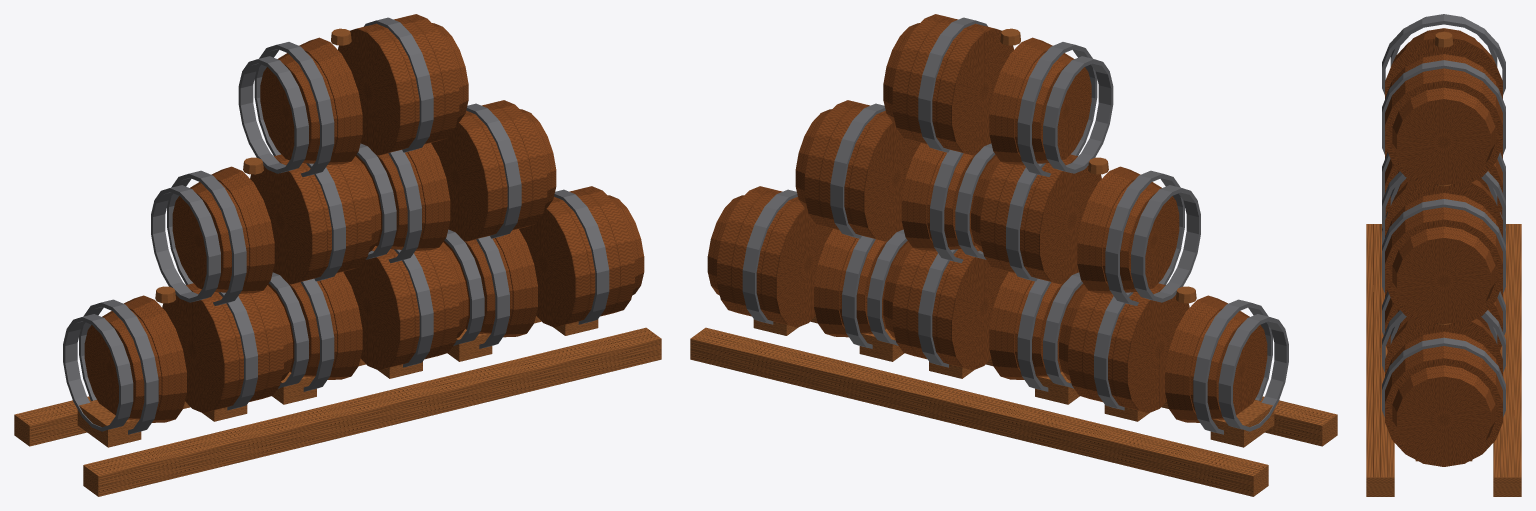
Rendered from barrel-stack.glb.
3 renders of one model, left to right at view 1: azimuth 30°, elevation 25°; view 2: azimuth 150°, elevation 25°; view 3: azimuth 270°, elevation 25°, orthographic. The views are drawn at different scales.
Visible parts, largest first — view 1: barrel-stack-oak, barrel-stack-dark, barrel-stack-timber; view 2: barrel-stack-oak, barrel-stack-dark, barrel-stack-timber; view 3: barrel-stack-oak, barrel-stack-timber, barrel-stack-dark.
Part boxes in pixels (x1,y1,x2,y2): barrel-stack-oak: (84, 14, 644, 422); barrel-stack-dark: (63, 17, 609, 434); barrel-stack-timber: (14, 28, 661, 496); barrel-stack-oak: (707, 14, 1267, 422); barrel-stack-dark: (742, 17, 1288, 434); barrel-stack-timber: (690, 28, 1337, 496); barrel-stack-oak: (1385, 28, 1502, 466); barrel-stack-timber: (1366, 32, 1521, 496); barrel-stack-dark: (1382, 14, 1505, 417).
Size of the model in its own units: 3.4 by 2.1 by 0.88.
Materials: 3 (2 with a texture image).
